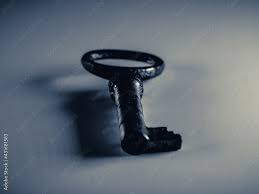key: (66, 38, 203, 163)
